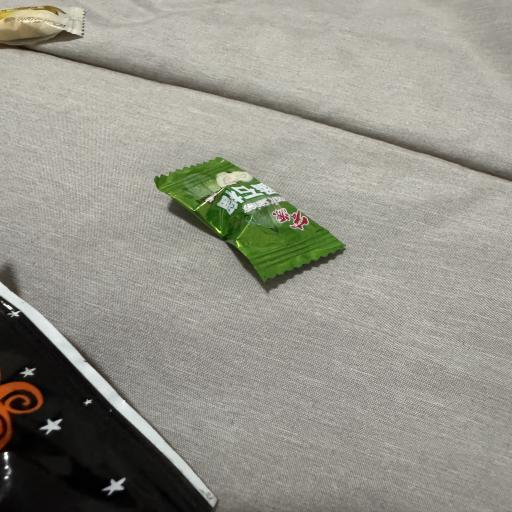chocolate: (155, 158, 344, 280), (0, 6, 84, 45)
